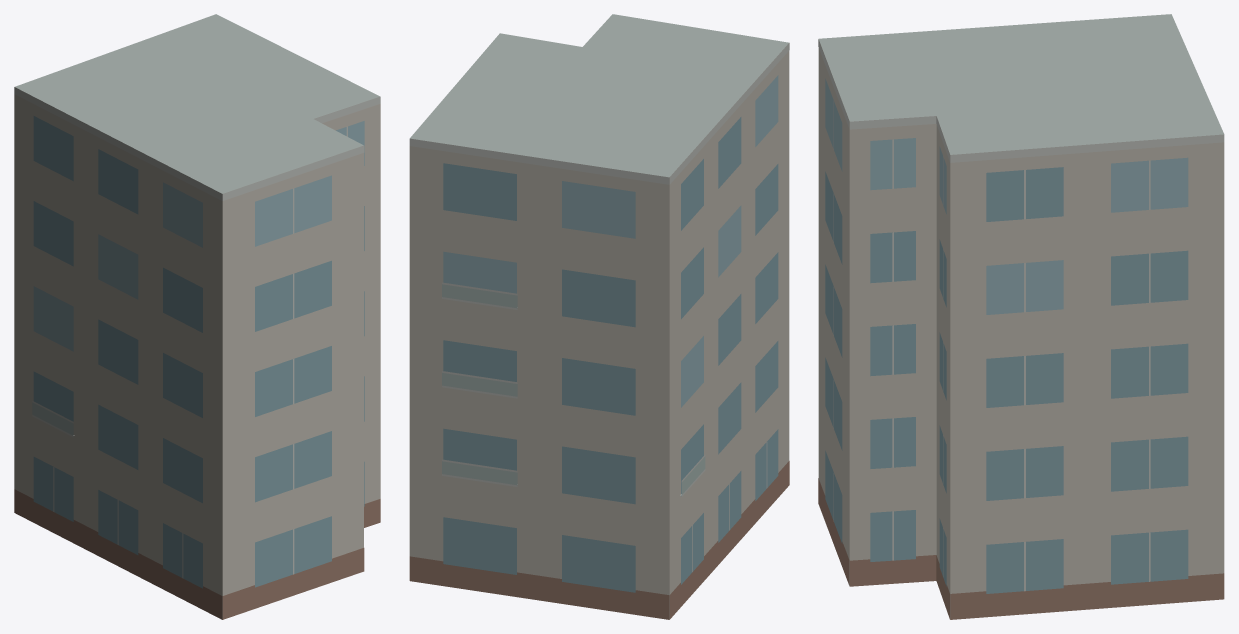
Rendered from survey-upis-32977986.glb.
3 views of the same model, side by side, from view 1: azimuth 30°, elevation 25°; view 2: azimuth 150°, elevation 25°; view 3: azimuth 270°, elevation 25° (orthographic). The views are drawn at different scales.
Parts seen in each view (by area): view 1: survey-upis-32977986.tmp; view 2: survey-upis-32977986.tmp; view 3: survey-upis-32977986.tmp.
Part boxes in pixels (left/top/right/bottom): survey-upis-32977986.tmp: left=14, top=14, right=380, bottom=619; survey-upis-32977986.tmp: left=409, top=14, right=789, bottom=619; survey-upis-32977986.tmp: left=818, top=14, right=1224, bottom=619.
Bounding box in the file's own units: 9.34 × 14.35 × 11.37.
